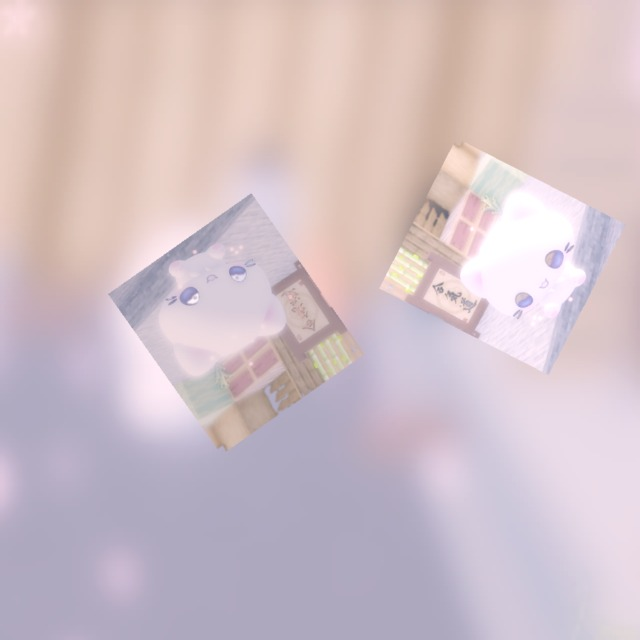urso_branco: (108, 193, 365, 455), (379, 138, 626, 375)
